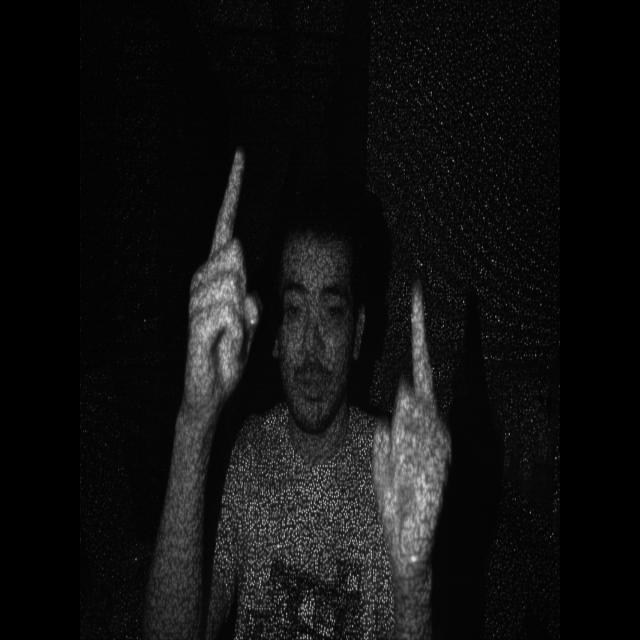STARS: (174, 121, 276, 414), (372, 268, 456, 609)
